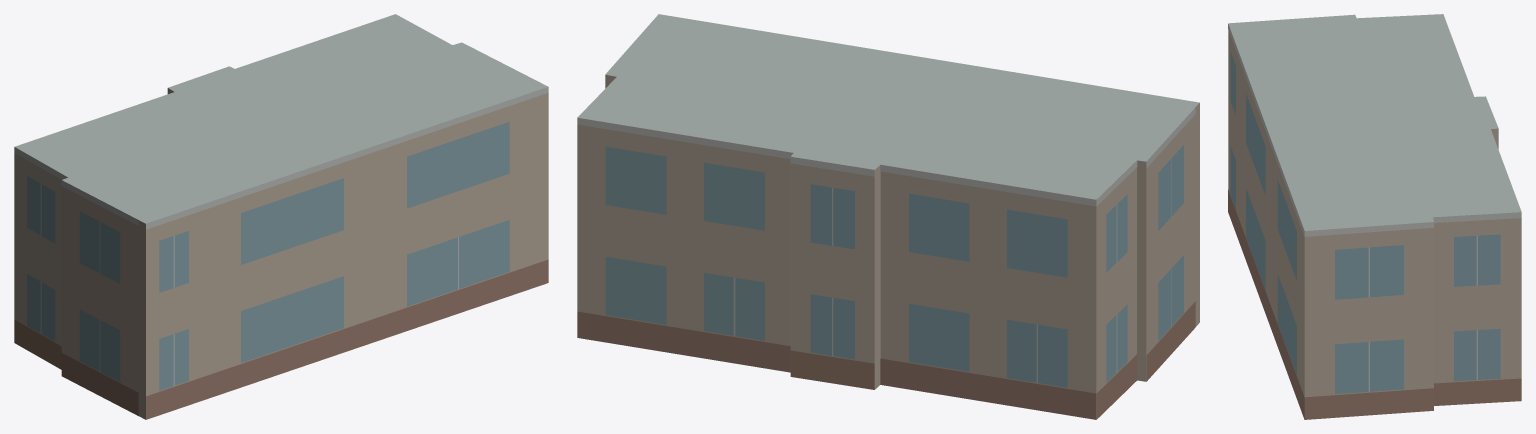
Rendered from survey-upis-32861504.glb.
The picture shows the model from 3 angles, left to right: view 1: azimuth 30°, elevation 25°; view 2: azimuth 150°, elevation 25°; view 3: azimuth 270°, elevation 25°; orthographic projection. The views are drawn at different scales.
Visible parts, largest first — view 1: survey-upis-32861504.tmp; view 2: survey-upis-32861504.tmp; view 3: survey-upis-32861504.tmp.
Boxes of the visible parts, x1,y1,x2,y2 form: survey-upis-32861504.tmp: [14, 14, 548, 419]; survey-upis-32861504.tmp: [577, 14, 1199, 419]; survey-upis-32861504.tmp: [1228, 14, 1521, 419].
Size of the model in its own units: 19.61 by 7.95 by 11.22.
